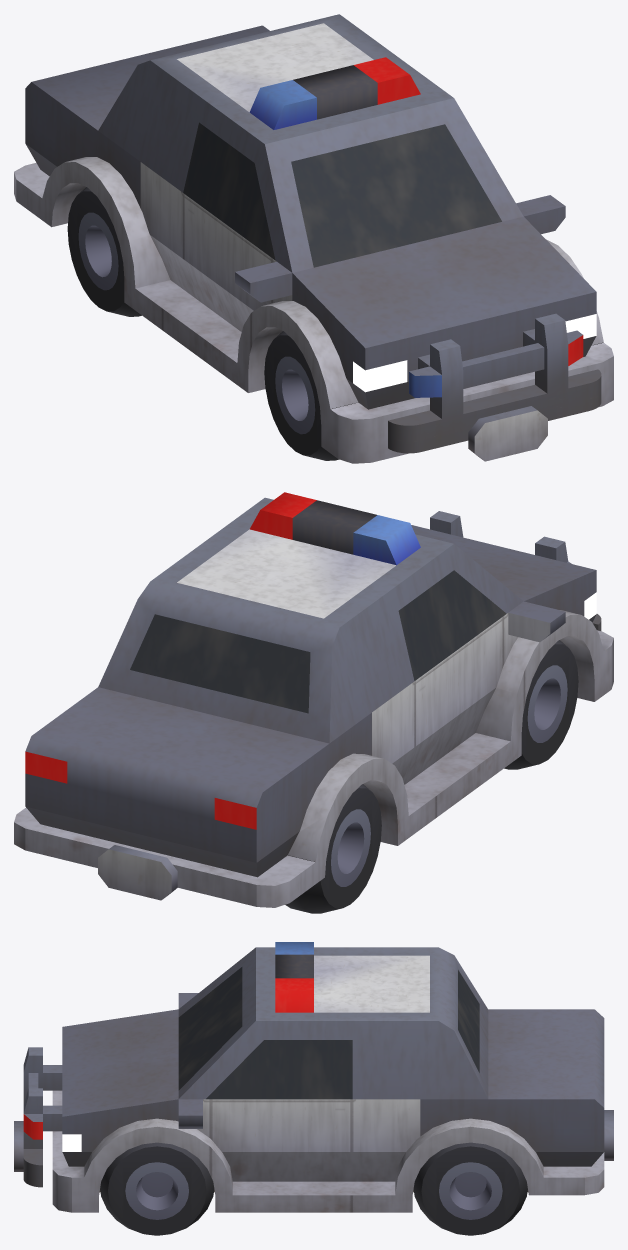
File: police-L2.glb
3 views of the same model, one above another, from view 1: azimuth 30°, elevation 25°; view 2: azimuth 150°, elevation 25°; view 3: azimuth 270°, elevation 25° (orthographic). The views are drawn at different scales.
Parts seen in each view (by area): view 1: body, grill, wheel-front-right, wheel-back-right; view 2: body, wheel-back-right, wheel-front-right, grill; view 3: body, wheel-back-left, wheel-front-left, grill.
Part boxes in pixels (left/top/right/bottom): body: left=14, top=14, right=613, bottom=463; grill: left=388, top=313, right=601, bottom=461; wheel-front-right: left=264, top=331, right=339, bottom=460; wheel-back-right: left=67, top=187, right=141, bottom=316; body: left=14, top=492, right=613, bottom=907; wheel-back-right: left=285, top=784, right=381, bottom=913; wheel-front-right: left=504, top=640, right=578, bottom=769; grill: left=430, top=511, right=601, bottom=630; body: left=52, top=942, right=613, bottom=1212; wheel-back-left: left=413, top=1142, right=527, bottom=1235; wheel-front-left: left=100, top=1142, right=214, bottom=1235; grill: left=14, top=1047, right=62, bottom=1187.
Size of the model in its own units: 1.5 by 1.3 by 3.1.
Materials: 6 (6 with a texture image).
